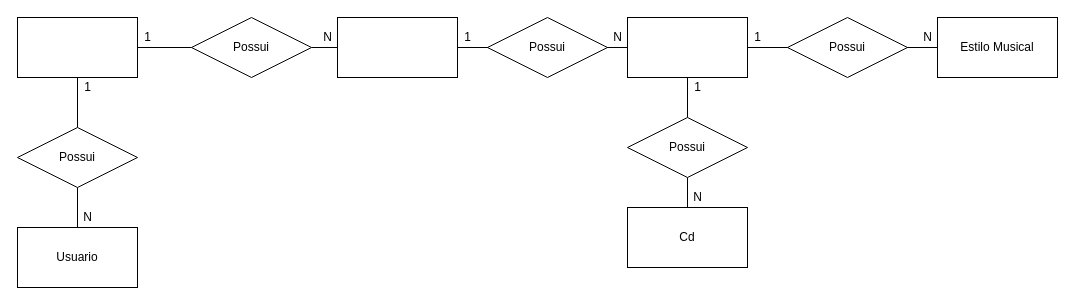
The diagram is 1075 pixels wide and 305 high, and some of its shapes have lost their labels. Each missing label, with the centre of its shape:
"Album" goes at (x=687, y=47).
"Artista" goes at (x=397, y=47).
"Empresas" goes at (x=77, y=47).
